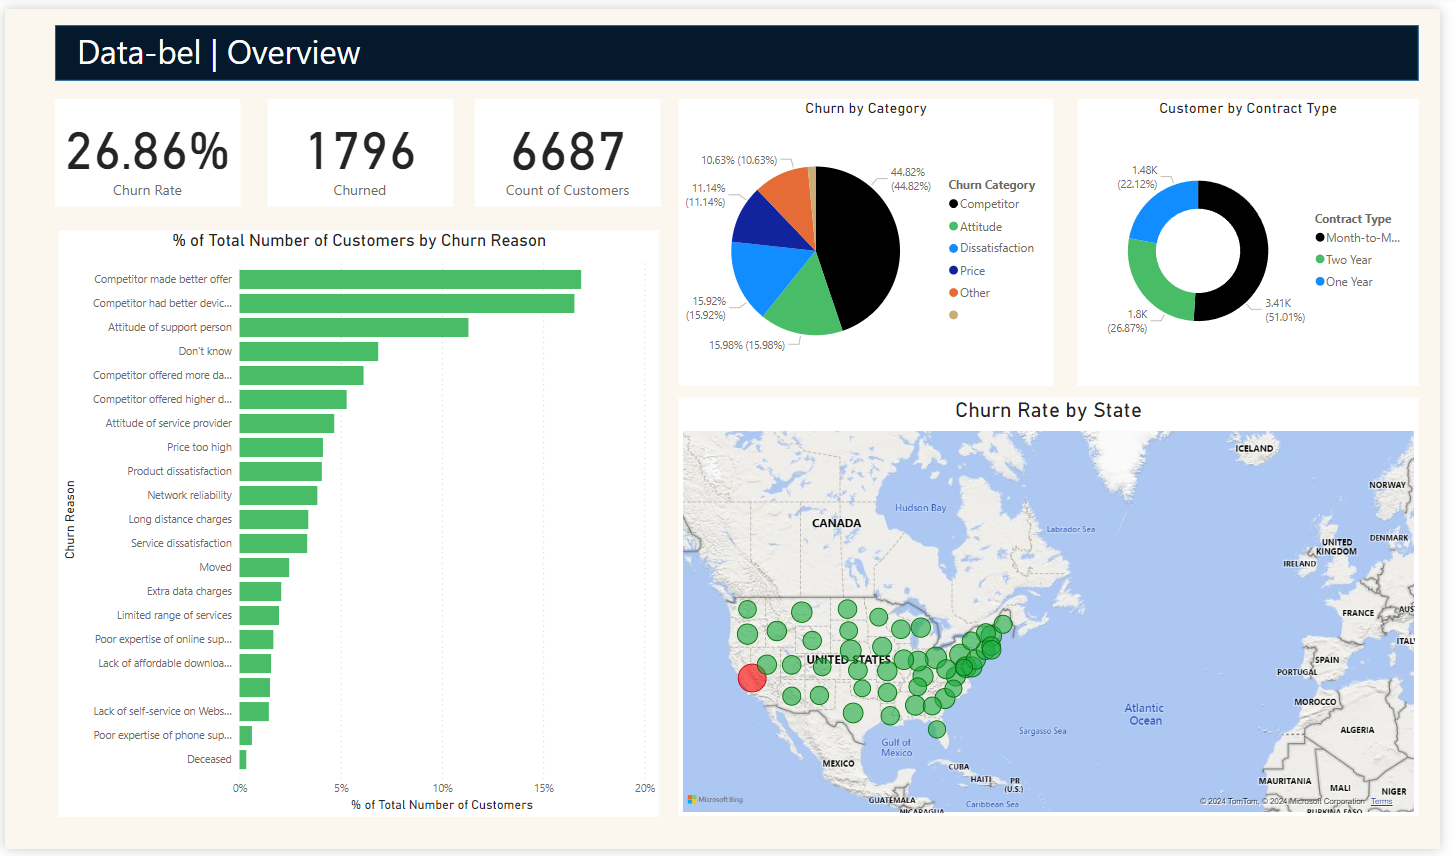

What the dashboard file says about the page in this screenshot:
{"tool":"powerbi","page":{"name":"Overview","canvas":[1640,960],"ordinal":0},"visuals":[{"type":"card","fields":{"Values":["DatabelData.Number of Customers"]},"box":[536.7,102.6,211.7,123.3],"z":0},{"type":"card","fields":{"Values":["Sum(DatabelData.Churned)"]},"box":[300,103.3,211.7,123.3],"z":1000},{"type":"card","fields":{"Values":["DatabelData.Churn Rate"]},"box":[56.7,102.6,211.7,123.3],"z":2000},{"type":"clusteredBarChart","fields":{"Category":["DatabelData.Churn Reason"],"Y":["DatabelData.Number of Customers"]},"box":[61.7,253.3,686.7,670],"z":3000},{"type":"pieChart","title":"Churn by Category","fields":{"Category":["DatabelData.Churn Category"],"Y":["CountNonNull(DatabelData.Churn Label)"]},"box":[770,103.3,428.3,328.3],"z":3001},{"type":"donutChart","title":"Customer by Contract Type","fields":{"Category":["DatabelData.Contract Type"],"Y":["CountNonNull(DatabelData.Customer ID)"]},"box":[1225,103.3,390,328.3],"z":3002},{"type":"map","fields":{"Size":["DatabelData.Churn Rate"],"Category":["DatabelData.State"]},"box":[770,444.3,845.7,478.6],"z":3003},{"type":"shape","box":[56.7,18.3,1558.3,63.3],"z":3004},{"type":"textbox","box":[76.7,18.3,446.7,63.3],"z":3005}]}

Visuals, with their boxes in screenshot pixels (x1, y1, x2, y2), scaled from the page's 1640x960 canvas onto the 1456x856 screenshot:
card - DatabelData.Number of Customers: x1=476 y1=91 x2=664 y2=201
card - Sum(DatabelData.Churned): x1=266 y1=92 x2=454 y2=202
card - DatabelData.Churn Rate: x1=50 y1=91 x2=238 y2=201
clusteredBarChart - DatabelData.Churn Reason x DatabelData.Number of Customers: x1=55 y1=226 x2=664 y2=823
"Churn by Category" pieChart: x1=684 y1=92 x2=1064 y2=385
"Customer by Contract Type" donutChart: x1=1088 y1=92 x2=1434 y2=385
map - DatabelData.Churn Rate x DatabelData.State: x1=684 y1=396 x2=1434 y2=823
shape: x1=50 y1=16 x2=1434 y2=73
textbox: x1=68 y1=16 x2=465 y2=73
